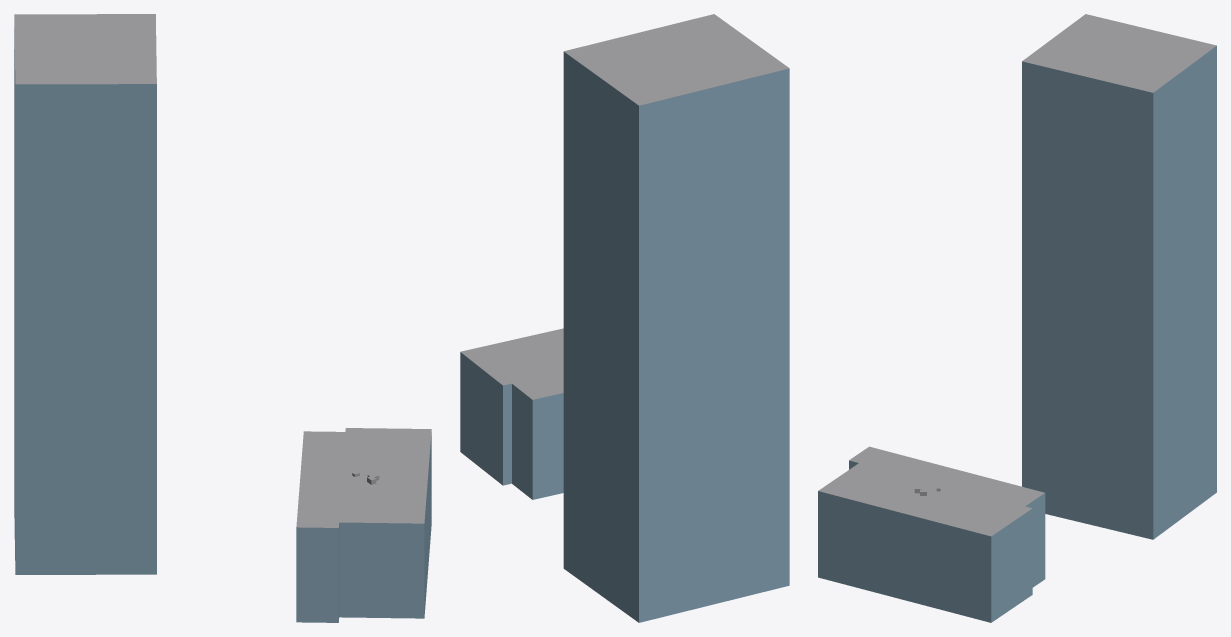
The model's file is building_-2_-3.glb.
3 views of the same model, side by side, from view 1: azimuth 30°, elevation 25°; view 2: azimuth 150°, elevation 25°; view 3: azimuth 270°, elevation 25° (orthographic). The views are drawn at different scales.
Parts seen in each view (by area): view 1: glass_blue, roof; view 2: glass_blue, roof; view 3: glass_blue, roof.
Part boxes in pixels (left/top/right/bottom): glass_blue: left=14, top=28, right=431, bottom=622; roof: left=14, top=14, right=431, bottom=527; glass_blue: left=460, top=52, right=789, bottom=622; roof: left=460, top=14, right=789, bottom=399; glass_blue: left=818, top=46, right=1216, bottom=622; roof: left=818, top=14, right=1216, bottom=536.
Size of the model in its own units: 119 by 153 by 124.
